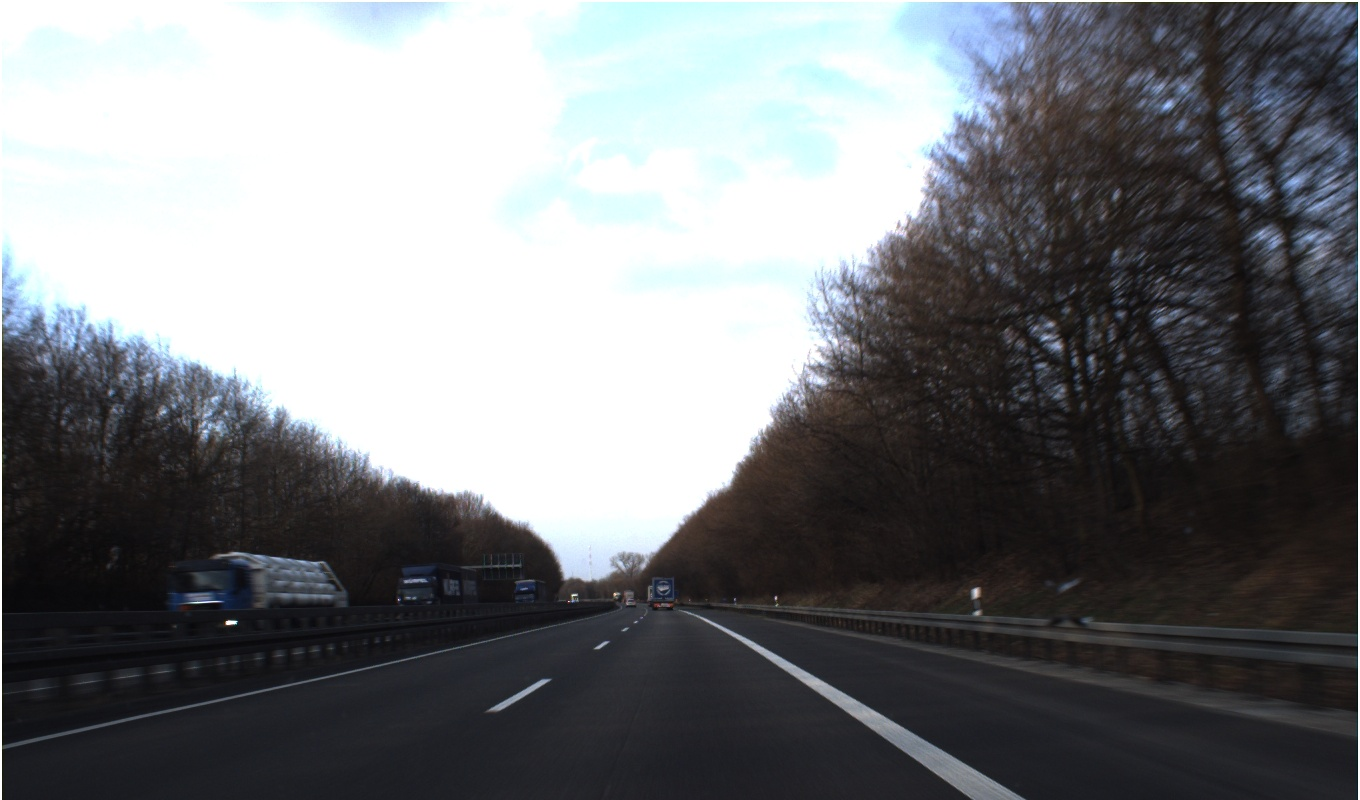Double curve: (712, 492, 732, 511)
